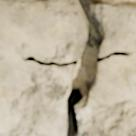broken_brick: (0, 11, 81, 135), (77, 0, 135, 135), (0, 0, 96, 15)
crack: (0, 0, 134, 135)
